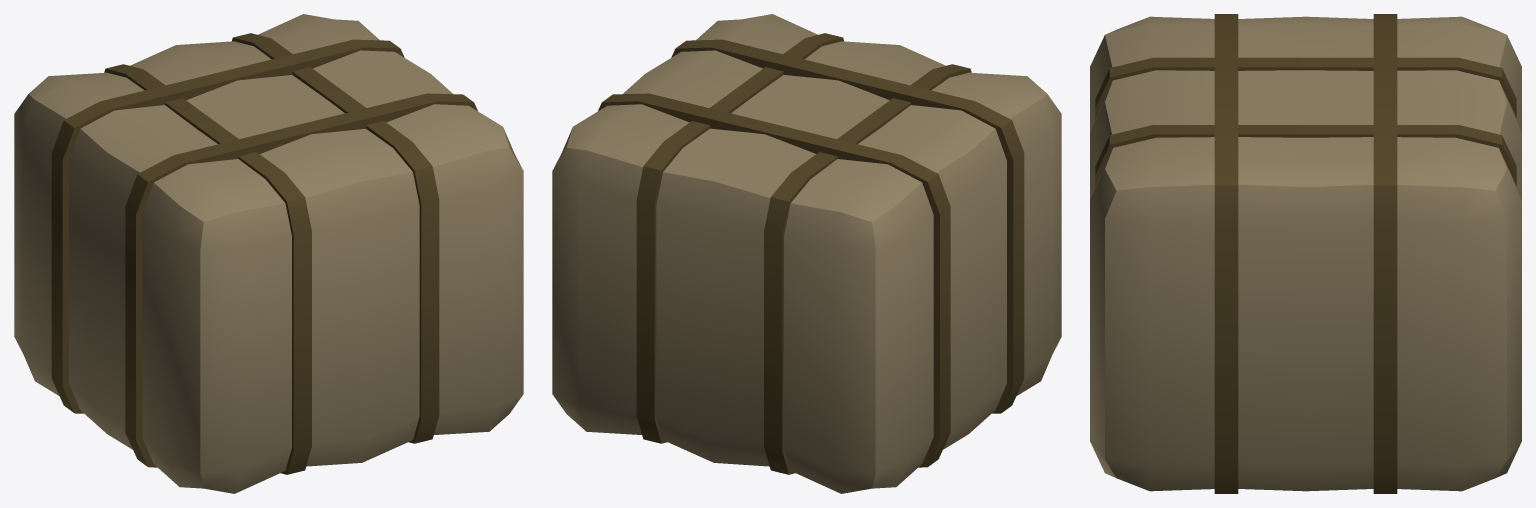
Rendered from Package_2.glb.
The picture shows the model from 3 angles, left to right: view 1: azimuth 30°, elevation 25°; view 2: azimuth 150°, elevation 25°; view 3: azimuth 270°, elevation 25°; orthographic projection. The views are drawn at different scales.
Visible parts, largest first — view 1: Package_2; view 2: Package_2; view 3: Package_2.
Part boxes in pixels (<box>): Package_2: <box>14,14,523,493</box>; Package_2: <box>552,14,1061,493</box>; Package_2: <box>1090,14,1521,493</box>.
Size of the model in its own units: 0.1897 by 0.158 by 0.1876.
